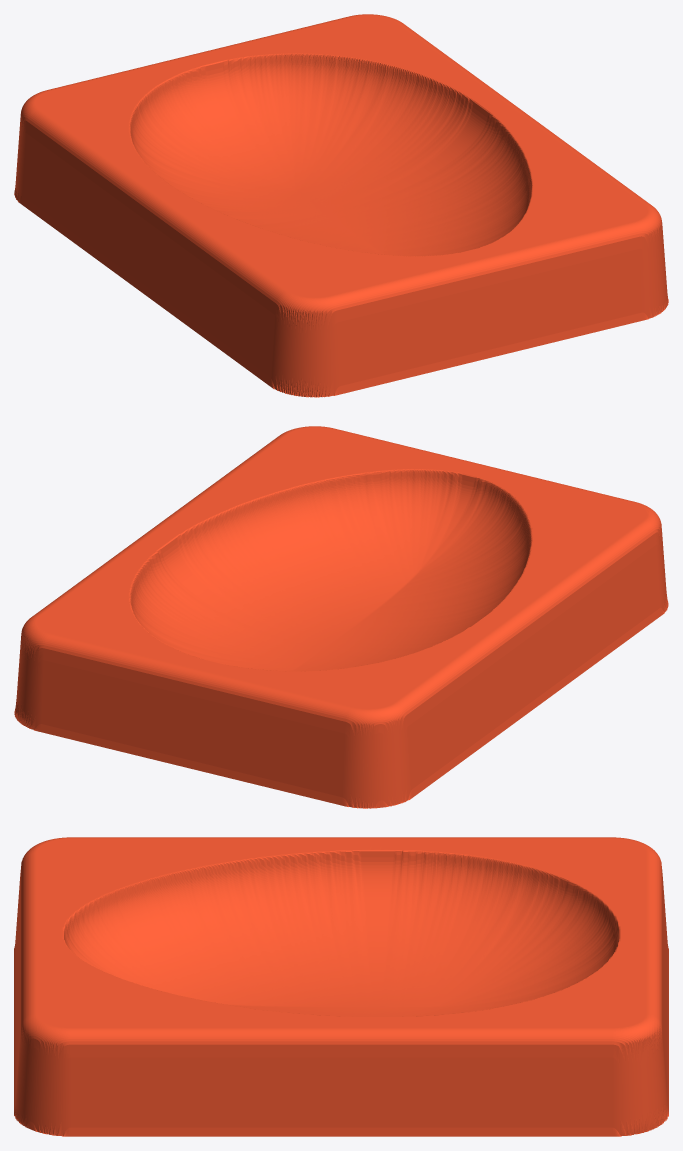
Rendered from mold.glb.
3 views of the same model, one above another, from view 1: azimuth 30°, elevation 25°; view 2: azimuth 150°, elevation 25°; view 3: azimuth 270°, elevation 25° (orthographic). The views are drawn at different scales.
Parts seen in each view (by area): view 1: geometry_0; view 2: geometry_0; view 3: geometry_0.
Part boxes in pixels (left/top/right/bottom): geometry_0: left=14, top=14, right=668, bottom=397; geometry_0: left=14, top=426, right=668, bottom=808; geometry_0: left=14, top=837, right=668, bottom=1136.
Bounding box in the file's own units: 0.079 × 0.0175 × 0.105.
